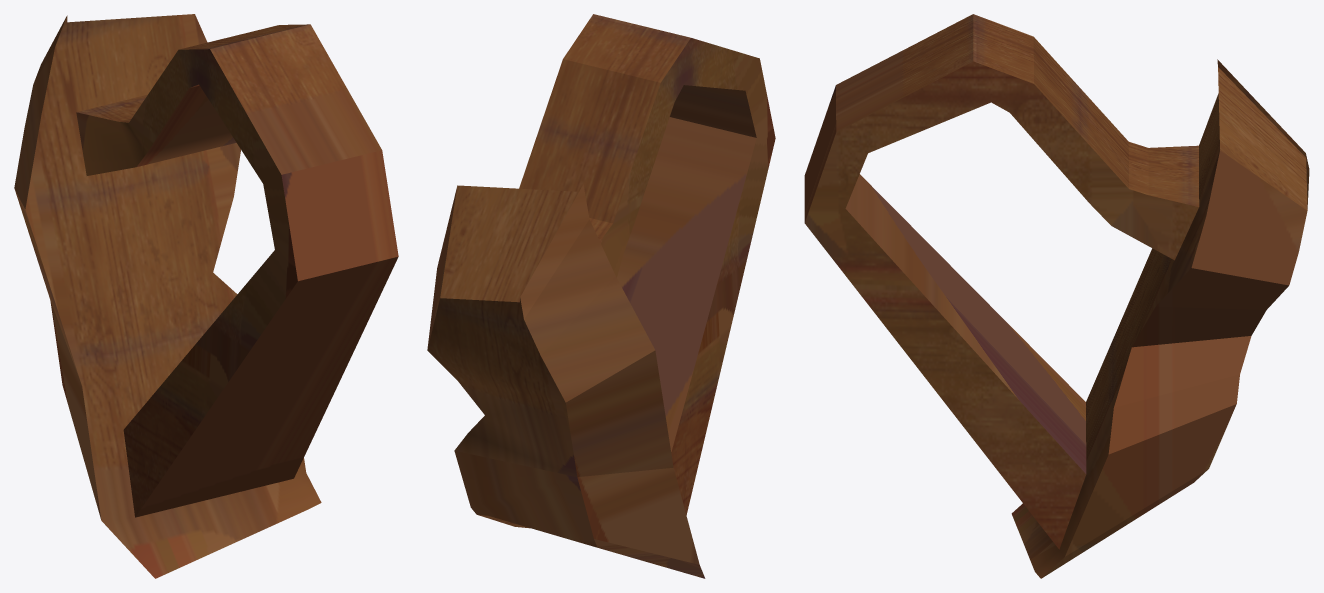
File: brokebottle2-3.fbx
The picture shows the model from 3 angles, left to right: view 1: azimuth 30°, elevation 25°; view 2: azimuth 150°, elevation 25°; view 3: azimuth 270°, elevation 25°; orthographic projection. The views are drawn at different scales.
Parts seen in each view (by area): view 1: polySurface20; view 2: polySurface20; view 3: polySurface20.
Part boxes in pixels (left/top/right/bottom): polySurface20: left=14, top=14, right=398, bottom=578; polySurface20: left=427, top=14, right=775, bottom=578; polySurface20: left=804, top=14, right=1309, bottom=578.
Size of the model in its own units: 6.27 by 14.42 by 12.79.
